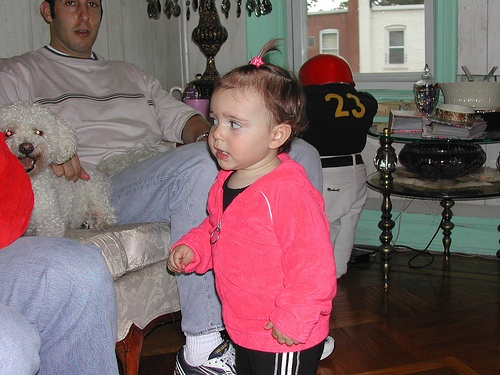head: (207, 63, 306, 172), (40, 1, 104, 67)
person: (160, 63, 340, 375), (1, 1, 211, 235), (296, 50, 375, 278)
